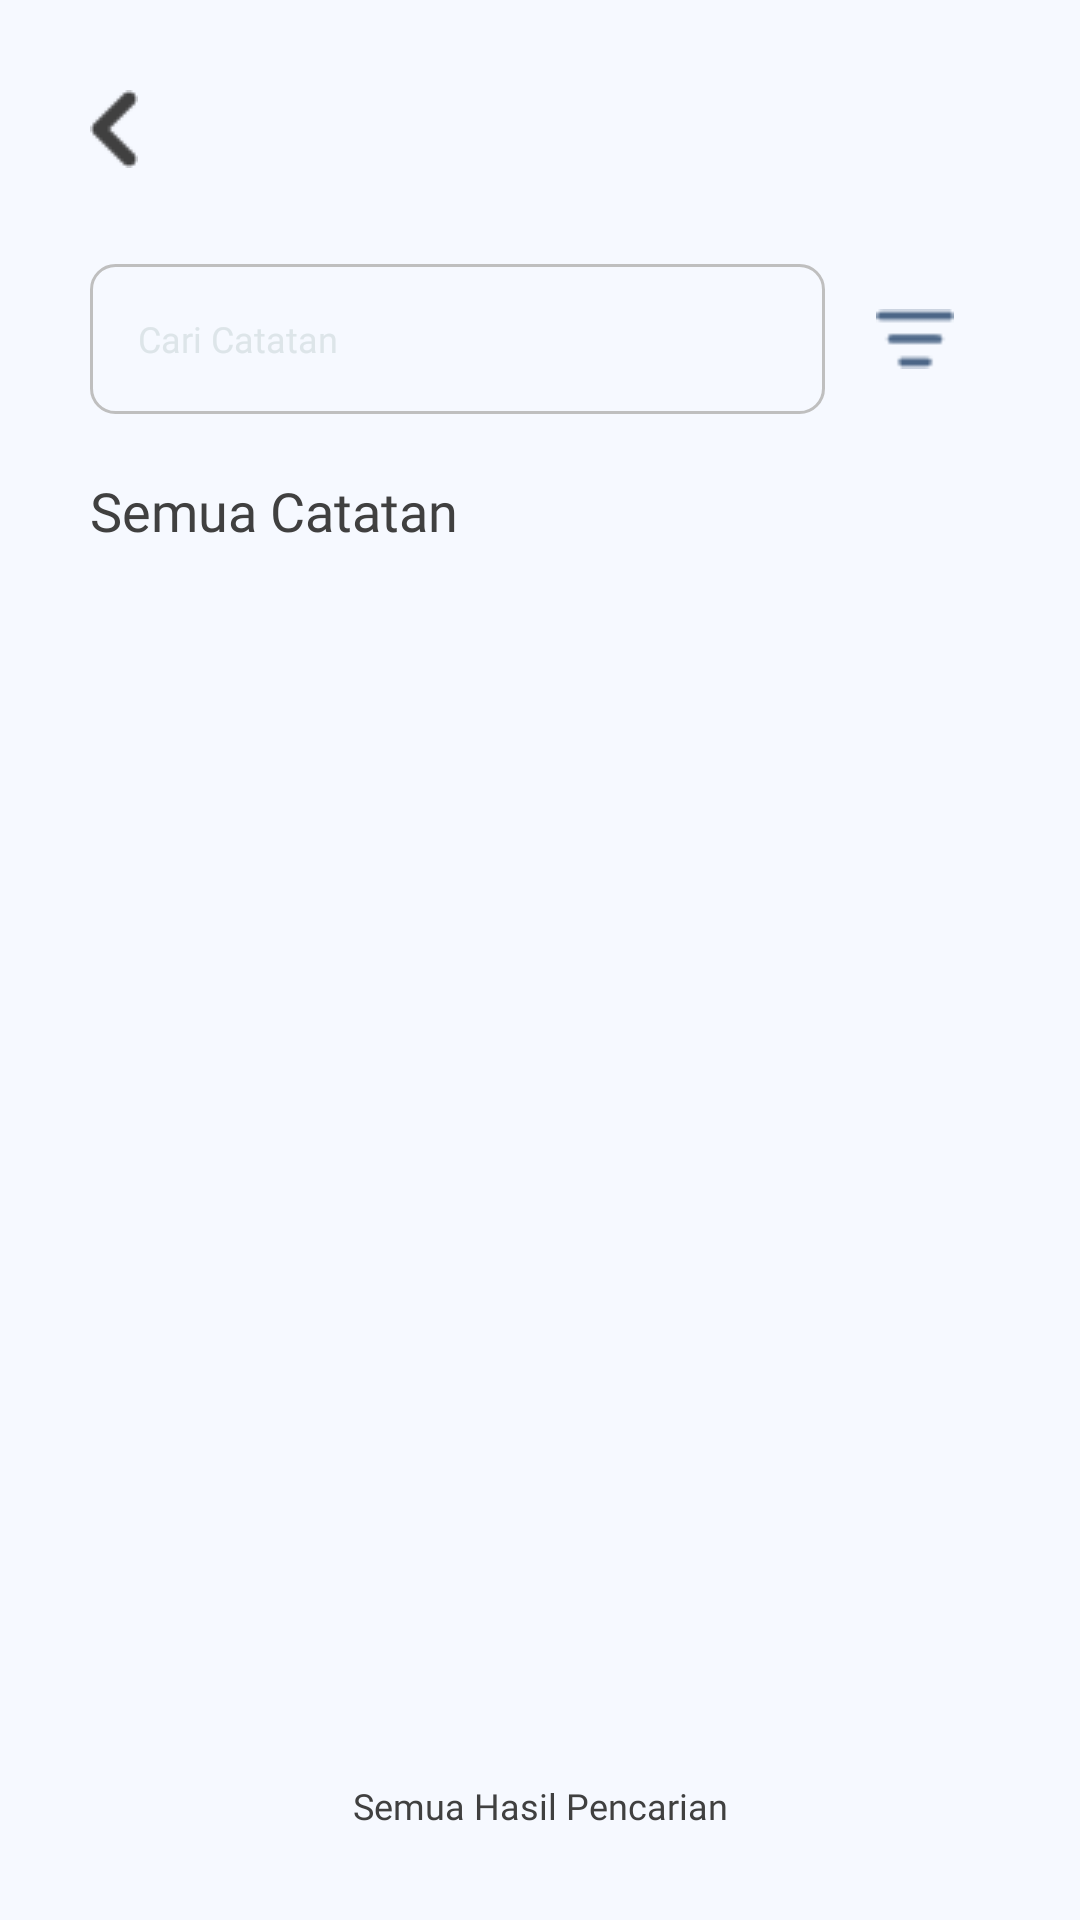

Point at icon controls on the screen. Image size 1080px x 1920px, points as (x=x, y=y).
arrow back from search: (x=114, y=129)
filter: (x=915, y=339)
